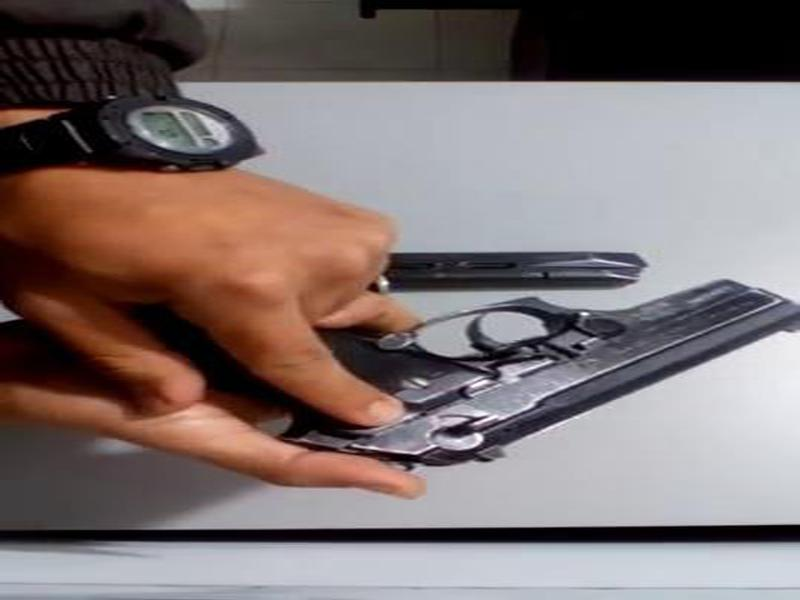Pistola: (301, 270, 800, 469)
